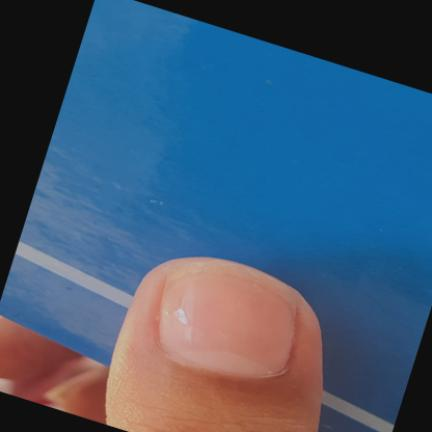Nail: (158, 260, 295, 377)
